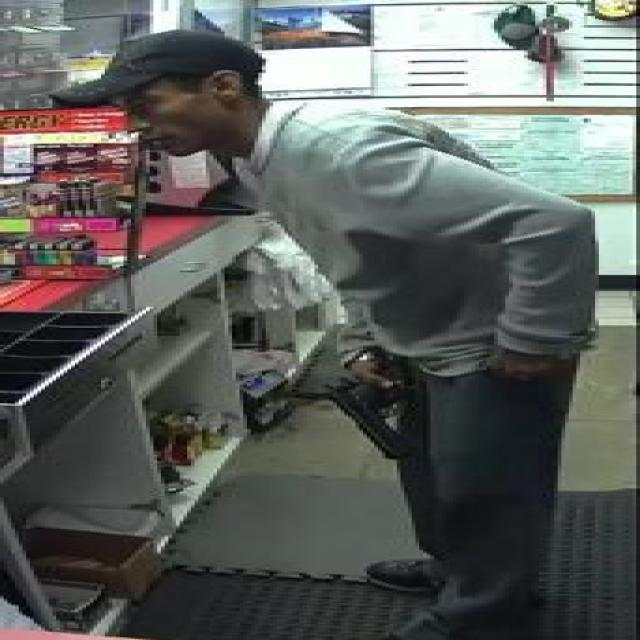Gun: (318, 366, 409, 465)
